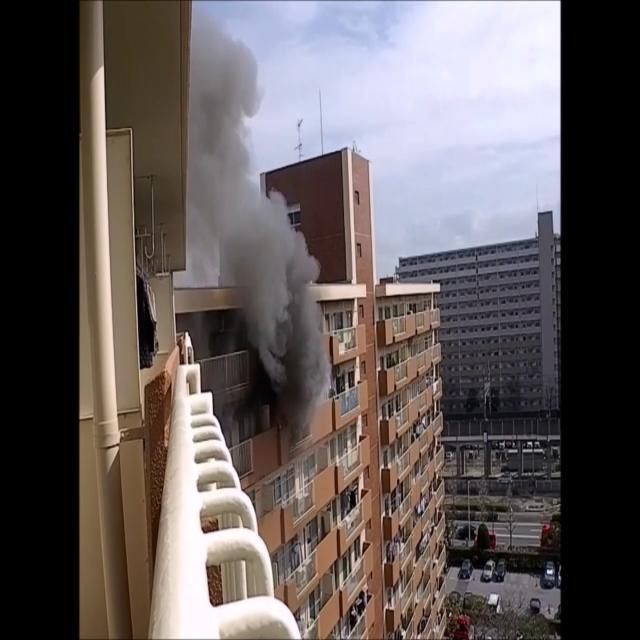Smoke: (176, 6, 330, 422)
